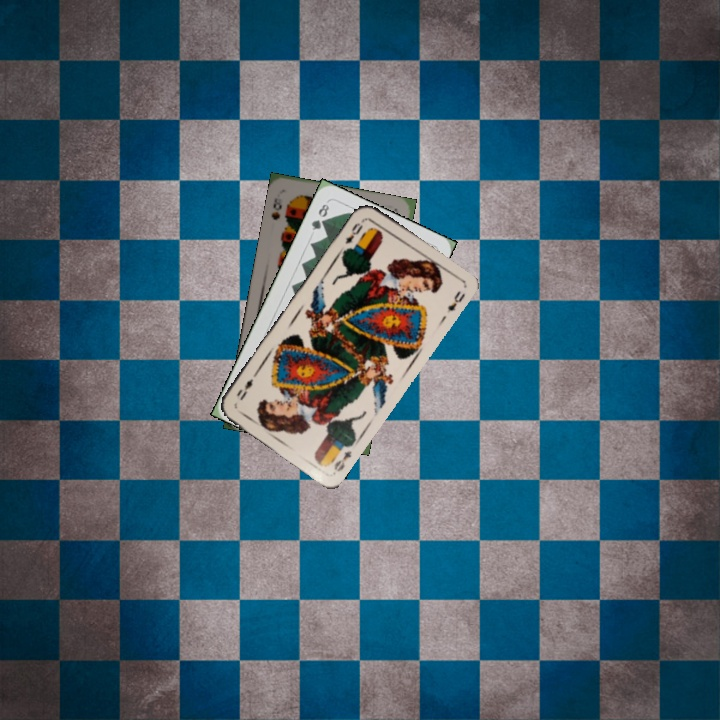EO: (341, 219, 366, 247), (330, 447, 354, 474)
G8: (307, 200, 332, 233)
S8: (267, 194, 284, 223)
